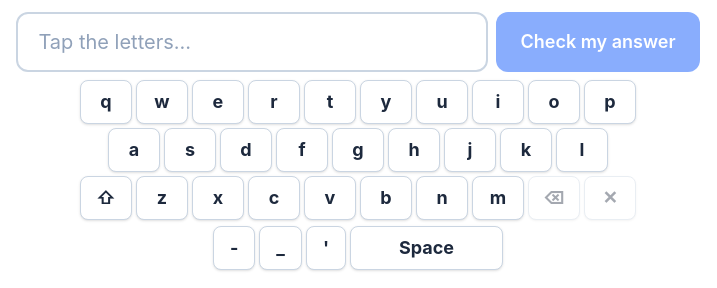
Scenario: SpellingInput (OnScreenKeyboard) › clear empties the display
Click the button "d".
click(246, 150)  # box [220,128,272,172]
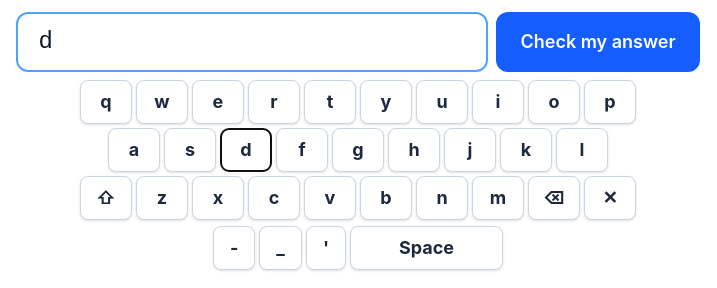
Click the button "o".
click(554, 102)  # box [528,80,580,124]
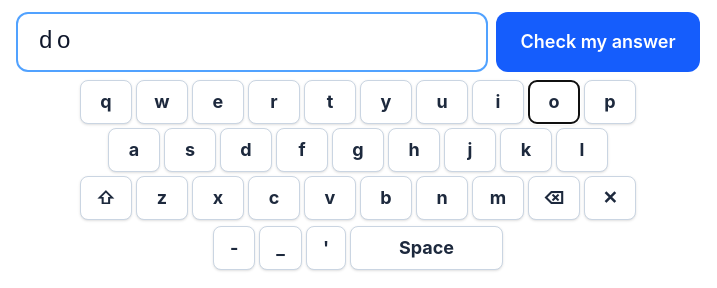
Click the button named "Clear".
click(610, 198)  # box [584,176,636,220]
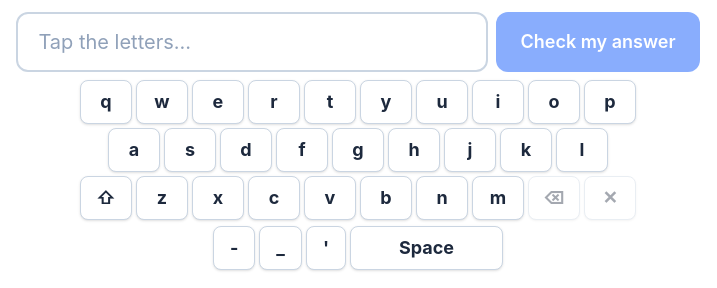
expect the message no longer shows "do": met, box [16,12,488,72]
